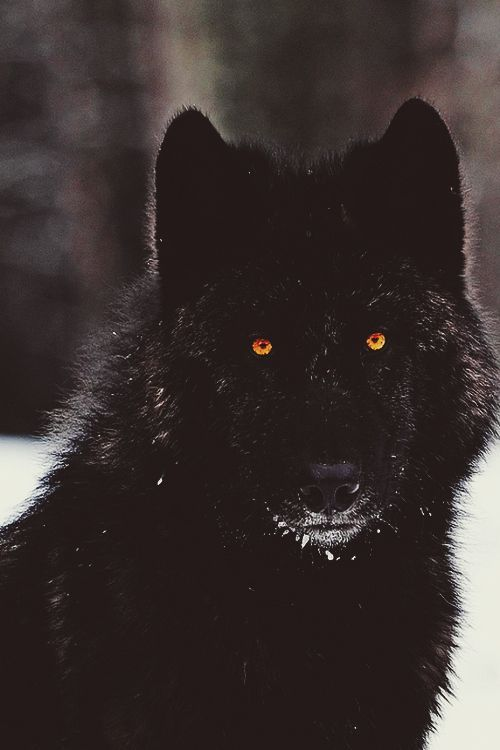Lobo: (24, 96, 500, 642)
